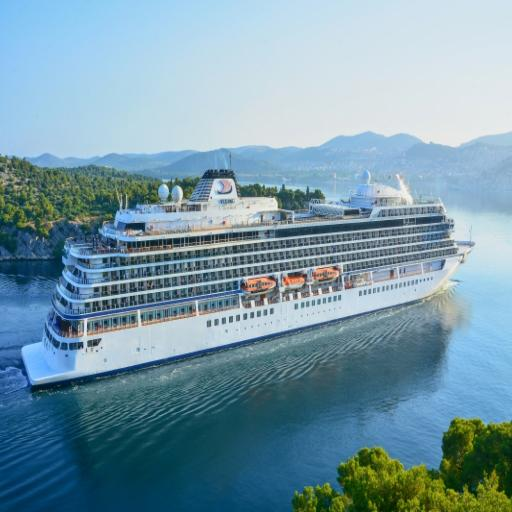cruises: (19, 163, 477, 398)
